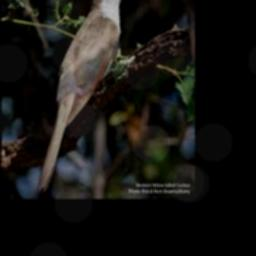Cuckoo: (37, 0, 140, 192)
